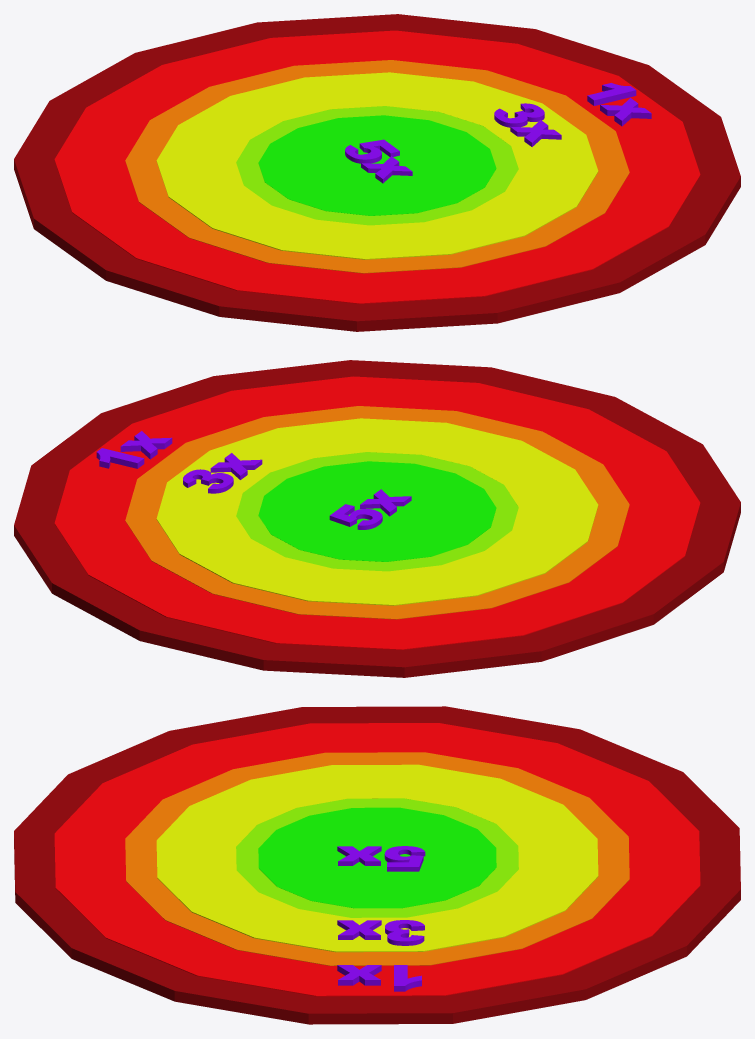
File: targetbuilding (1).fbx
3 renders of one model, top to bottom at view 1: azimuth 30°, elevation 25°; view 2: azimuth 150°, elevation 25°; view 3: azimuth 270°, elevation 25°, orthographic.
Parts seen in each view (by area): view 1: Cylinder.023, Cylinder.025, Cylinder.027, Text.002, Text.001, Text; view 2: Cylinder.023, Cylinder.025, Cylinder.027, Text.002, Text.001, Text; view 3: Cylinder.023, Cylinder.025, Cylinder.027, Text.002, Text.001, Text.
Boxes of the visible parts, box(x1,y1,x2,y2) form: Cylinder.023: box(14, 14, 740, 331); Cylinder.025: box(125, 60, 629, 273); Cylinder.027: box(236, 106, 518, 225); Text.002: box(345, 139, 412, 183); Text.001: box(494, 103, 561, 146); Text: box(587, 83, 651, 126); Cylinder.023: box(14, 360, 740, 677); Cylinder.025: box(125, 406, 629, 619); Cylinder.027: box(236, 452, 518, 571); Text.002: box(329, 489, 411, 529); Text.001: box(183, 453, 262, 493); Text: box(96, 431, 172, 468); Cylinder.023: box(14, 706, 740, 1024); Cylinder.025: box(125, 752, 629, 965); Cylinder.027: box(236, 798, 518, 917); Text.002: box(337, 846, 425, 871); Text.001: box(337, 920, 424, 945); Text: box(337, 965, 421, 991).
Bounding box in the file's own units: 447 × 13.2 × 447.
